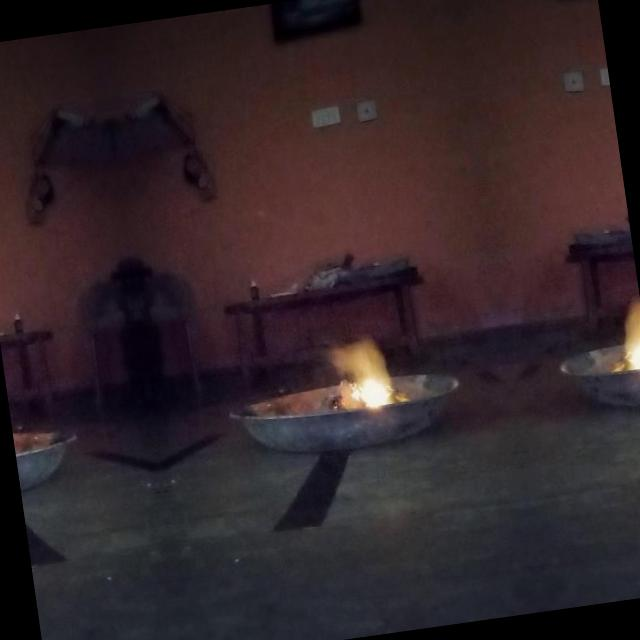fire: (288, 310, 430, 446), (590, 278, 640, 422)
